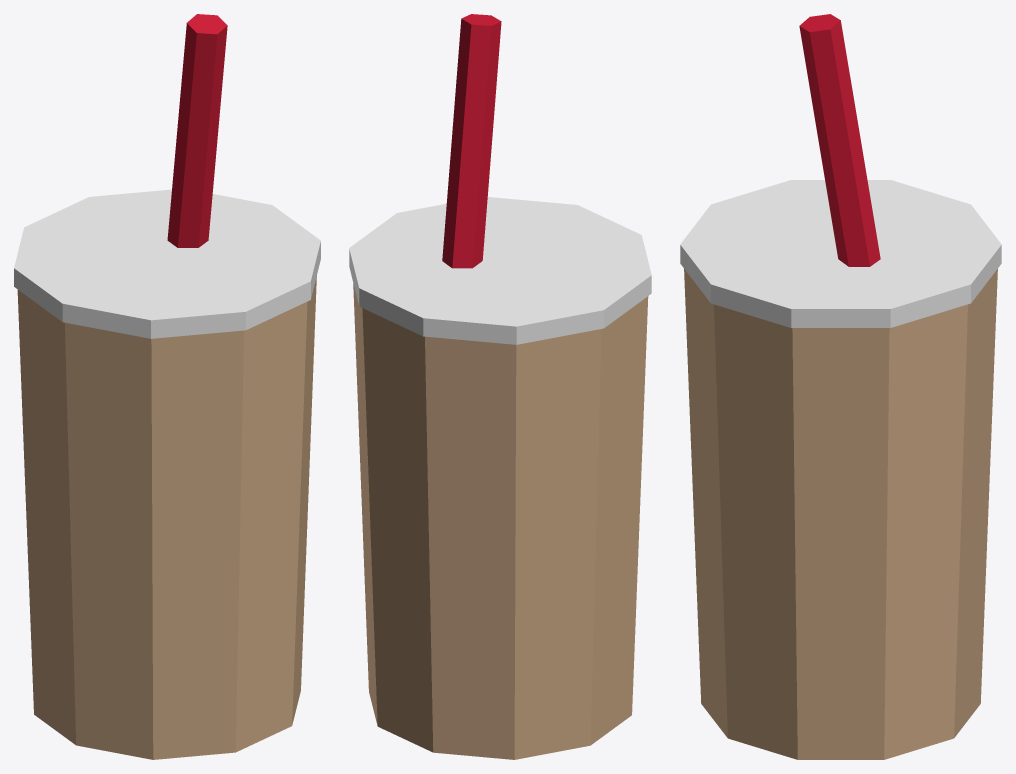
File: bubble_tea.glb
3 views of the same model, side by side, from view 1: azimuth 30°, elevation 25°; view 2: azimuth 150°, elevation 25°; view 3: azimuth 270°, elevation 25° (orthographic). The views are drawn at different scales.
Visible parts, largest first — view 1: bubble_tea; view 2: bubble_tea; view 3: bubble_tea.
Part boxes in pixels (x1,y1,x2,y2): bubble_tea: [14, 14, 320, 759]; bubble_tea: [349, 14, 651, 759]; bubble_tea: [680, 14, 1001, 759].
Bounding box in the file's own units: 0.0875 × 0.2204 × 0.092.
